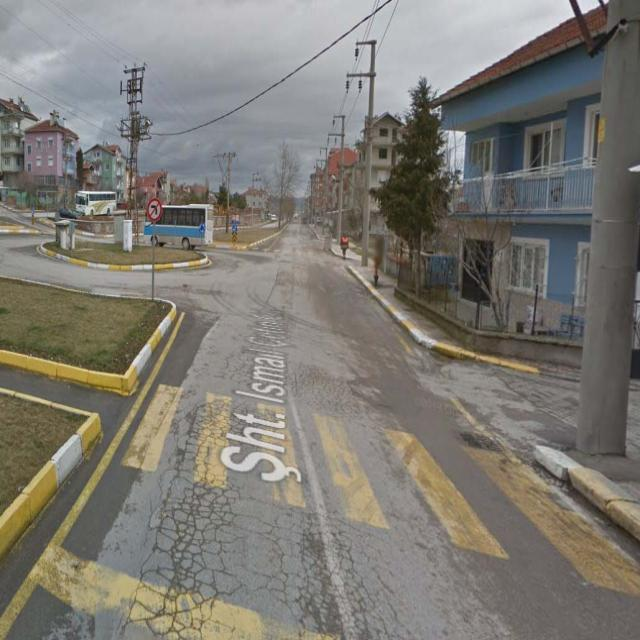soladonulmez: (149, 198, 161, 220)
